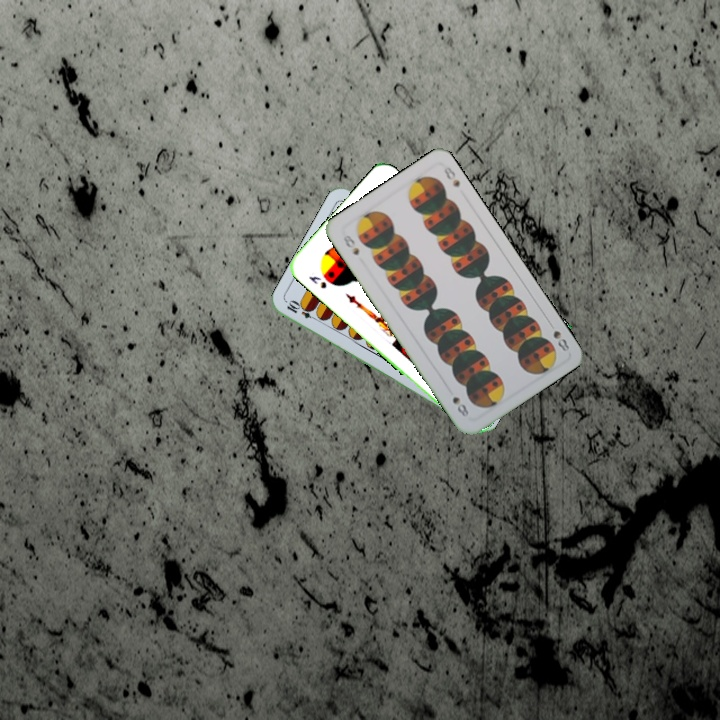E10: (283, 297, 322, 324)
S8: (544, 317, 572, 354), (339, 231, 362, 258)
SK: (305, 272, 329, 291)
